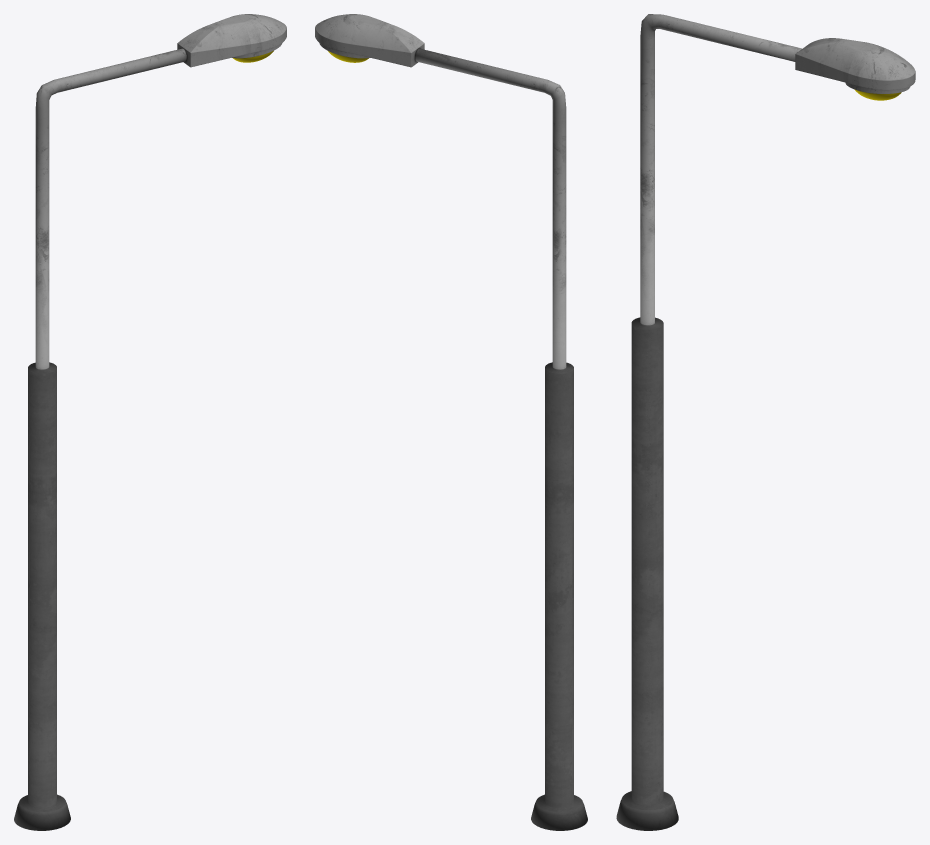
The model's file is road_street_light.glb.
3 renders of one model, left to right at view 1: azimuth 30°, elevation 25°; view 2: azimuth 150°, elevation 25°; view 3: azimuth 330°, elevation 25°, orthographic. The views are drawn at different scales.
Parts seen in each view (by area): view 1: StreetLightBody_low_0, StreetLightHead_low_1; view 2: StreetLightBody_low_0, StreetLightHead_low_1; view 3: StreetLightBody_low_0, StreetLightHead_low_1.
Part boxes in pixels (box(x1,y1,x2,y2)): StreetLightBody_low_0: box(14, 48, 186, 830); StreetLightHead_low_1: box(177, 14, 286, 67); StreetLightBody_low_0: box(415, 48, 587, 830); StreetLightHead_low_1: box(315, 14, 424, 67); StreetLightBody_low_0: box(616, 14, 801, 830); StreetLightHead_low_1: box(795, 38, 915, 100).
Bounding box in the file's own units: 3.31 × 8.93 × 0.5959.
5 materials, 5 textured.
